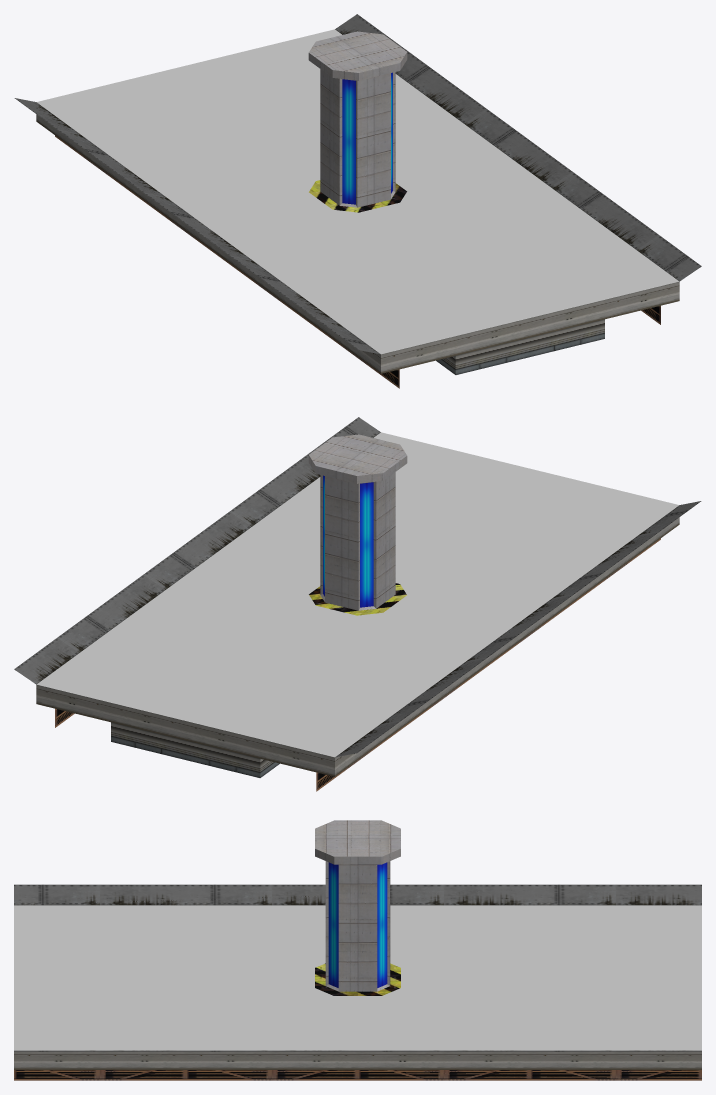
Rendered from StrColumn.fbx.
3 renders of one model, top to bottom at view 1: azimuth 30°, elevation 25°; view 2: azimuth 150°, elevation 25°; view 3: azimuth 270°, elevation 25°, orthographic.
Visible parts, largest first — view 1: Empty_Mesh; view 2: Empty_Mesh; view 3: Empty_Mesh.
Boxes of the visible parts, x1,y1,x2,y2 form: Empty_Mesh: (14, 14, 701, 388); Empty_Mesh: (14, 417, 701, 791); Empty_Mesh: (14, 820, 701, 1080).
Size of the model in its own units: 18.4 by 9.15 by 32.
